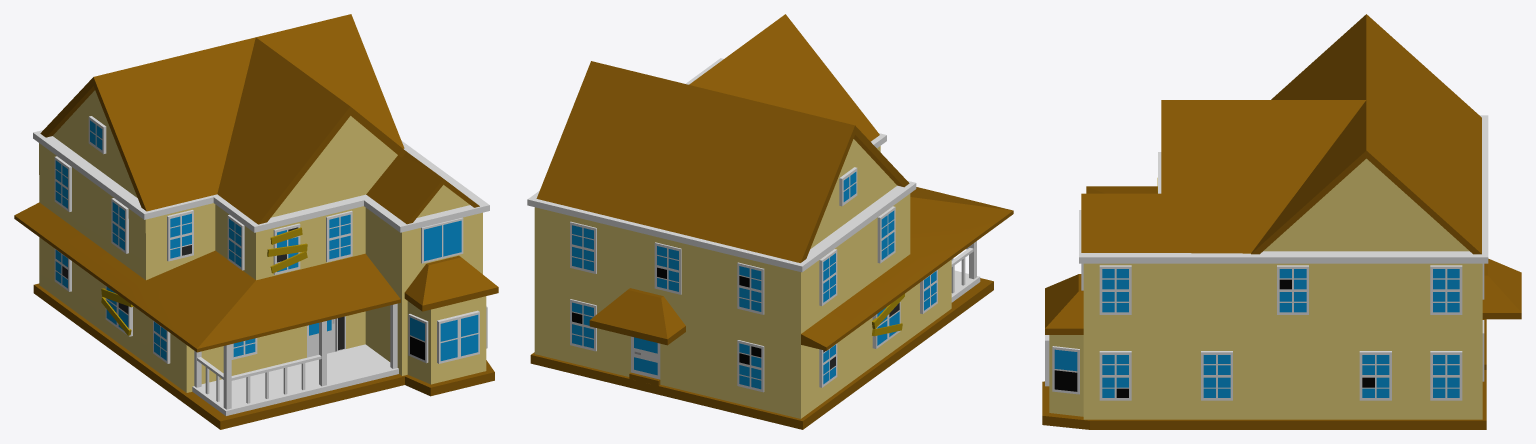
File: big_building.fbx
The picture shows the model from 3 angles, left to right: view 1: azimuth 30°, elevation 25°; view 2: azimuth 150°, elevation 25°; view 3: azimuth 270°, elevation 25°; orthographic projection. The views are drawn at different scales.
Parts seen in each view (by area): view 1: big_building; view 2: big_building; view 3: big_building.
Boxes of the visible parts, left/top/right/bottom form: big_building: left=14, top=14, right=498, bottom=429; big_building: left=527, top=14, right=1013, bottom=429; big_building: left=1042, top=14, right=1521, bottom=429.
Bounding box in the file's own units: 1578 × 1333 × 2086.
